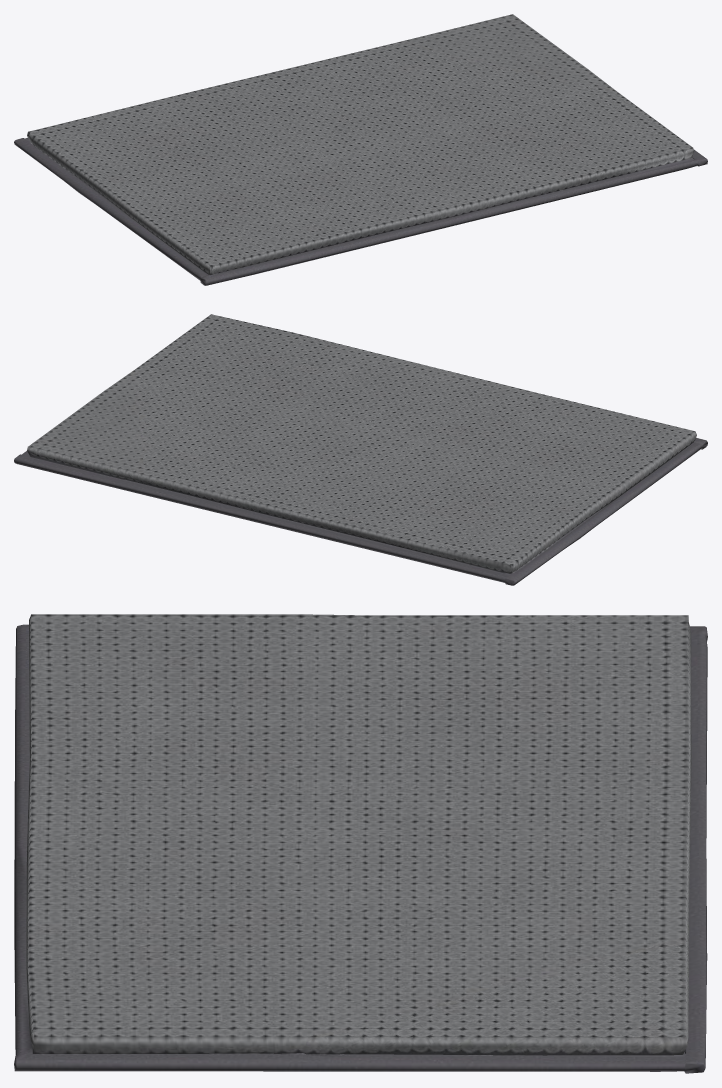
3 renders of one model, top to bottom at view 1: azimuth 30°, elevation 25°; view 2: azimuth 150°, elevation 25°; view 3: azimuth 270°, elevation 25°, orthographic. The views are drawn at different scales.
Parts seen in each view (by area): view 1: ASY_ART_60634438_S01_NV01; view 2: ASY_ART_60634438_S01_NV01; view 3: ASY_ART_60634438_S01_NV01.
Part boxes in pixels (x1,y1,x2,y2): ASY_ART_60634438_S01_NV01: (14, 14, 707, 285); ASY_ART_60634438_S01_NV01: (14, 314, 707, 585); ASY_ART_60634438_S01_NV01: (14, 614, 707, 1073).
Bounding box in the file's own units: 0.5993 × 0.0179 × 0.3999.
1 material, 1 textured.
